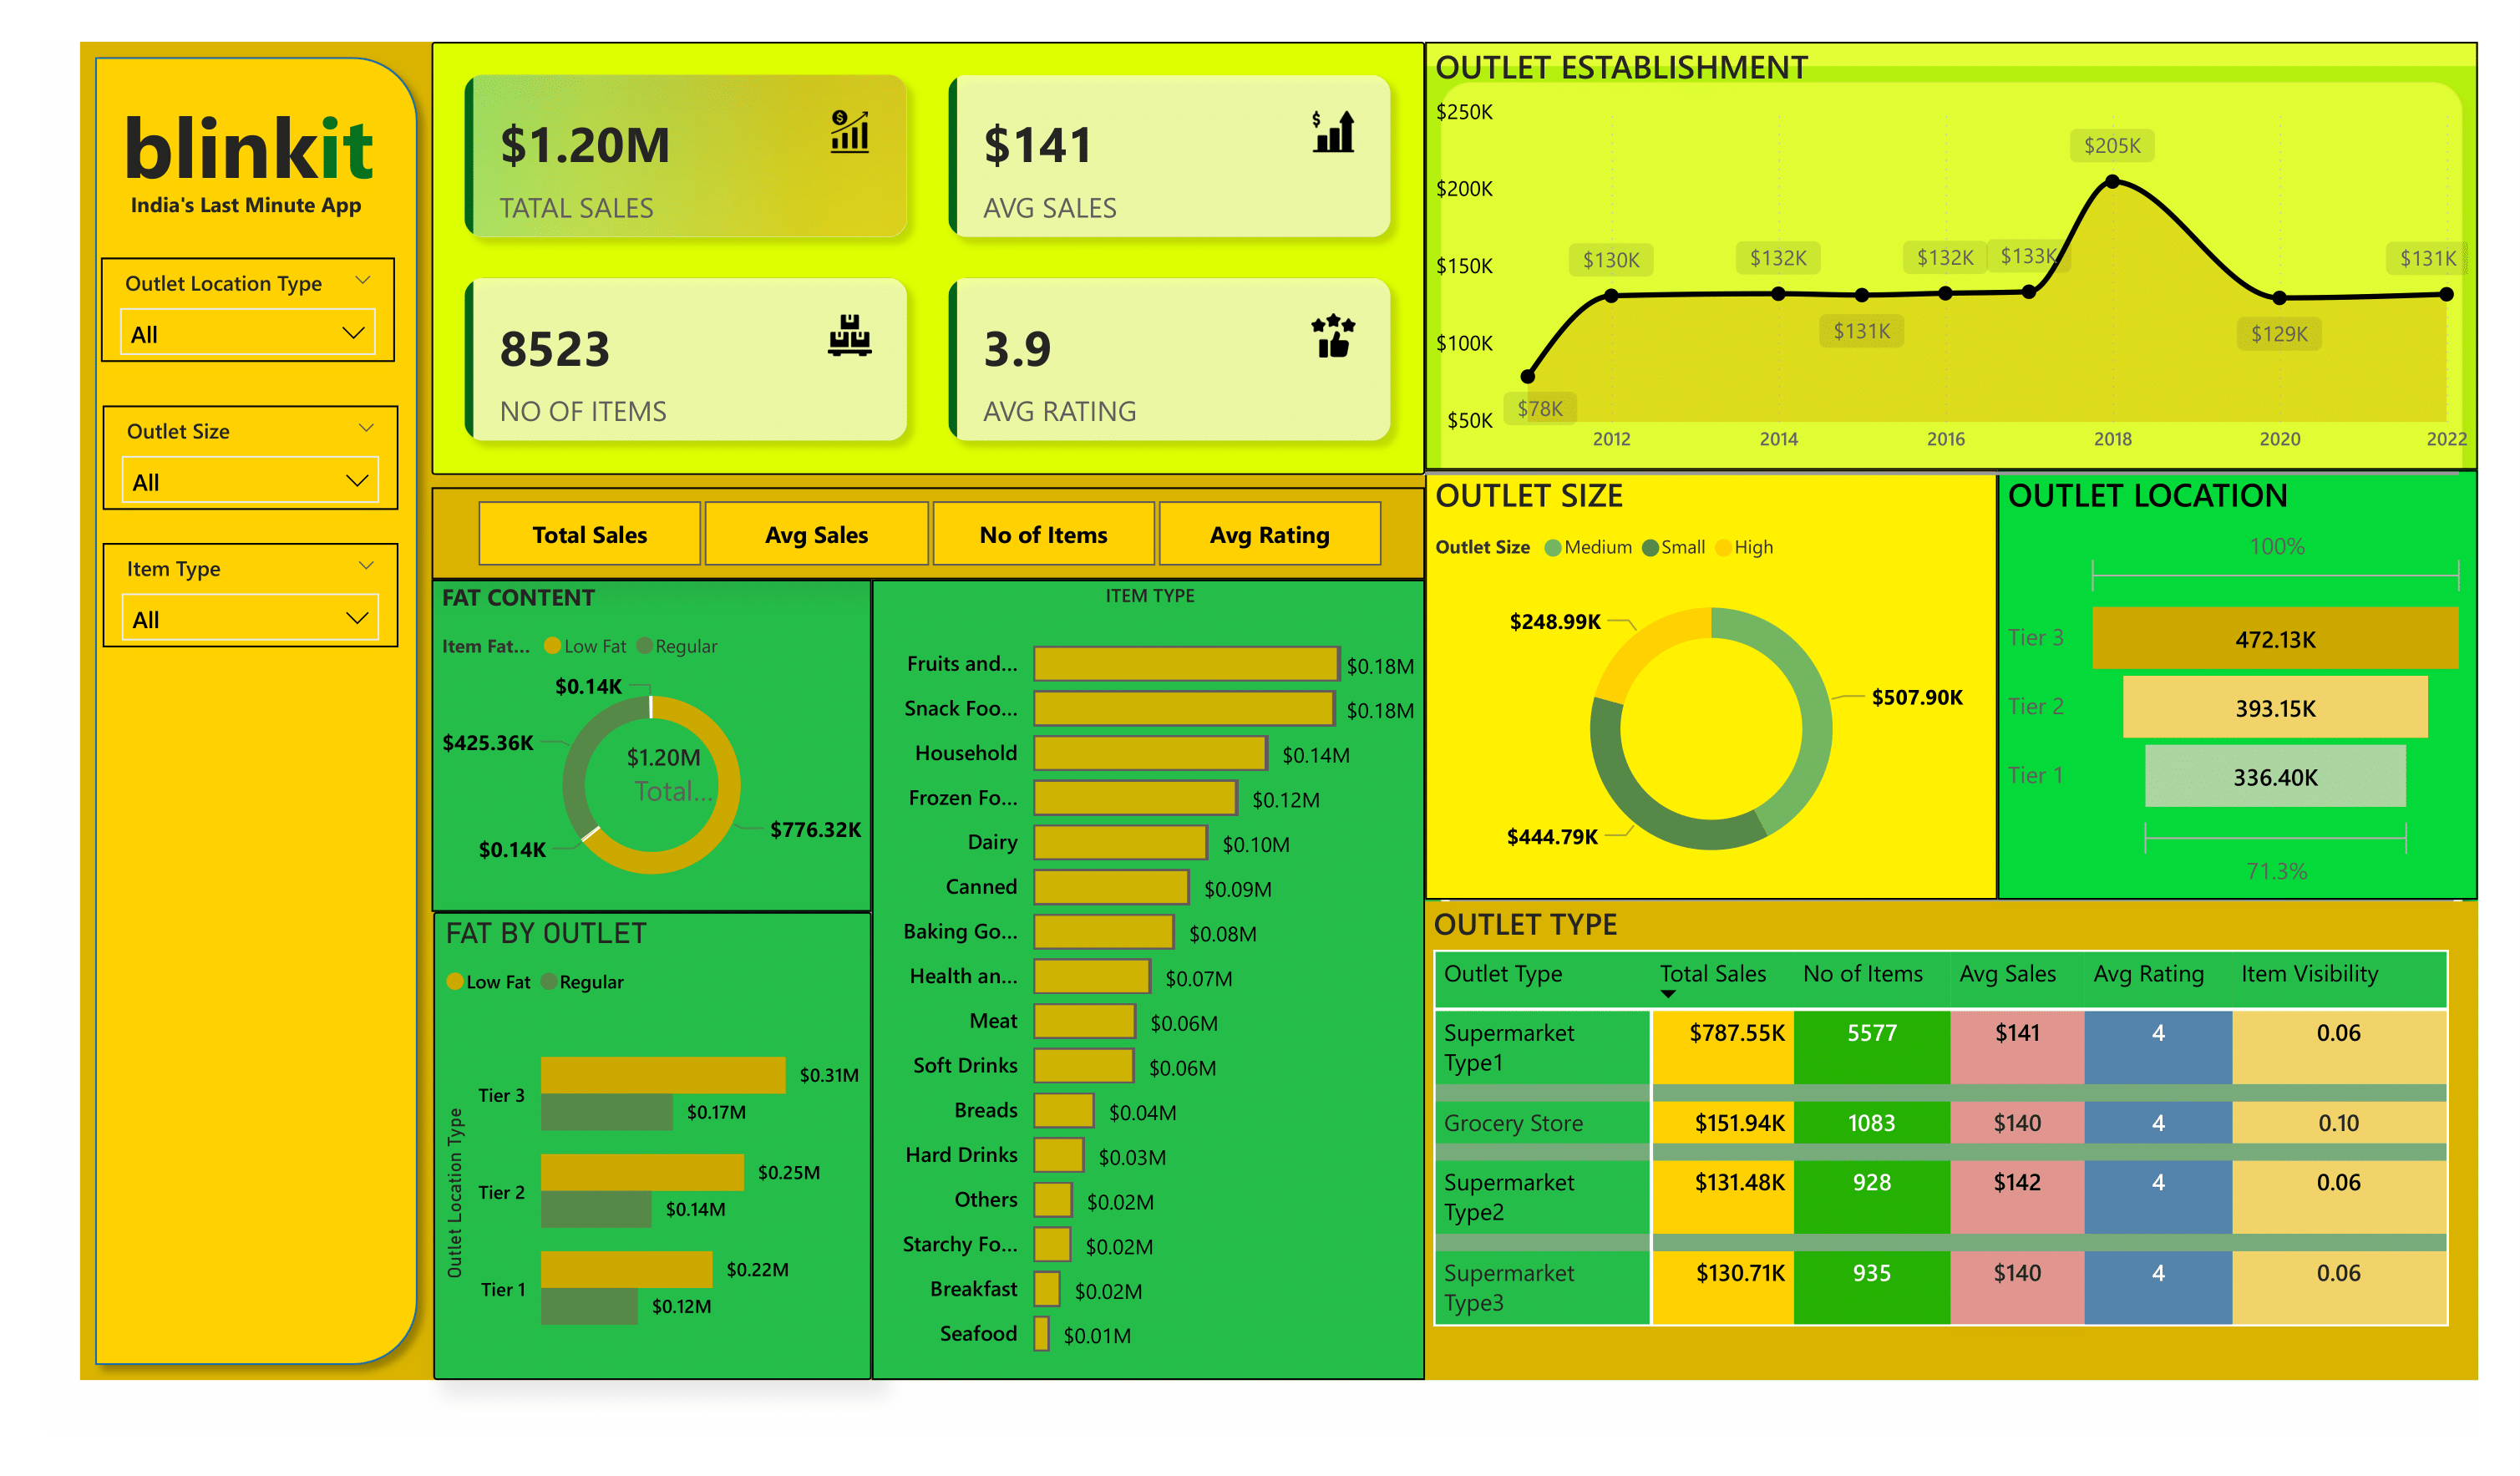

This screenshot's page, from the dashboard's own definition file:
{"tool":"powerbi","page":{"name":"Page 1","canvas":[1400,800],"ordinal":0},"visuals":[{"type":"shape","box":[21.5,0,203.1,769.2],"z":0},{"type":"textbox","box":[271.5,0,205,769],"z":1000},{"type":"textbox","box":[33.6,21.2,169.7,74.2],"z":2000},{"type":"textbox","box":[45.6,78.9,157.9,45.6],"z":3000},{"type":"cardVisual","fields":{"Data":["BlinkIT Grocery Data.Total Sales","BlinkIT Grocery Data.Avg Sales","BlinkIT Grocery Data.No of Items","BlinkIT Grocery Data.Avg Rating"]},"box":[224.5,0,570.9,249.2],"z":4000},{"type":"shape","box":[224.5,249.2,570.9,519.6],"z":5000},{"type":"donutChart","title":"FAT CONTENT","fields":{"Y":["BlinkIT Grocery Data.Total Sales","BlinkIT Grocery Data.Avg Sales","BlinkIT Grocery Data.No of Items","BlinkIT Grocery Data.Avg Rating"],"Category":["BlinkIT Grocery Data.Item Fat Content"]},"box":[224.5,309.3,252.7,190.9],"z":6000},{"type":"slicer","fields":{"Values":["Metrics.Metrics"]},"box":[224.5,256.3,570.9,53],"z":7000},{"type":"cardVisual","fields":{"Data":["BlinkIT Grocery Data.Total Sales"]},"box":[309.3,383.5,97.2,70.7],"z":8000},{"type":"clusteredBarChart","title":"FAT BY OUTLET","fields":{"Y":["BlinkIT Grocery Data.Total Sales"],"Category":["BlinkIT Grocery Data.Outlet Location Type"],"Series":["BlinkIT Grocery Data.Item Fat Content"]},"box":[224.6,500,252.3,269.2],"z":9000},{"type":"shape","box":[471.9,309.3,12.4,459.5],"z":10000},{"type":"barChart","title":"ITEM TYPE","fields":{"Y":["BlinkIT Grocery Data.Total Sales","BlinkIT Grocery Data.Avg Sales","BlinkIT Grocery Data.No of Items","BlinkIT Grocery Data.Avg Rating"],"Category":["BlinkIT Grocery Data.Item Type"]},"box":[476.9,309.2,318.5,460],"z":11000},{"type":"shape","box":[795.3,14.1,604.4,754.7],"z":12000},{"type":"lineChart","title":"OUTLET ESTABLISHMENT","fields":{"Category":["BlinkIT Grocery Data.Outlet Establishment Year"],"Y":["BlinkIT Grocery Data.Total Sales"]},"box":[795.4,0,604.6,246.2],"z":13000},{"type":"shape","box":[809.4,486,576.2,14.1],"z":14000},{"type":"donutChart","title":"OUTLET SIZE","fields":{"Y":["BlinkIT Grocery Data.Total Sales"],"Category":["BlinkIT Grocery Data.Outlet Size"]},"box":[795.3,245.7,328.7,247.4],"z":15000},{"type":"funnel","title":"OUTLET LOCATION","fields":{"Y":["Sum(BlinkIT Grocery Data.Sales)"],"Category":["BlinkIT Grocery Data.Outlet Location Type"]},"box":[1124,245.7,275.7,247.4],"z":16000},{"type":"shape","box":[795.3,240.4,593.8,15.9],"z":17000},{"type":"pivotTable","title":"OUTLET TYPE","fields":{"Values":["BlinkIT Grocery Data.Total Sales","BlinkIT Grocery Data.No of Items","BlinkIT Grocery Data.Avg Sales","BlinkIT Grocery Data.Avg Rating","Avg(BlinkIT Grocery Data.Item Visibility)"],"Rows":["BlinkIT Grocery Data.Outlet Type"]},"box":[795.4,493.8,604.6,275.4],"z":18000},{"type":"slicer","fields":{"Values":["BlinkIT Grocery Data.Outlet Location Type"]},"box":[33.6,123.7,169.7,60.1],"z":19000},{"type":"slicer","fields":{"Values":["BlinkIT Grocery Data.Outlet Size"]},"box":[35.3,208.5,169.7,60.1],"z":20000},{"type":"slicer","fields":{"Values":["BlinkIT Grocery Data.Item Type"]},"box":[35.3,288.1,169.7,60.1],"z":21000}]}

Visuals, with their boxes in screenshot pixels (x1, y1, x2, y2):
shape: <box>79,42,433,1381</box>
textbox: <box>515,42,871,1380</box>
textbox: <box>100,79,396,208</box>
textbox: <box>121,179,396,258</box>
cardVisual - BlinkIT Grocery Data.Total Sales x BlinkIT Grocery Data.Avg Sales: <box>433,42,1426,475</box>
shape: <box>433,475,1426,1380</box>
"FAT CONTENT" donutChart: <box>433,581,872,912</box>
slicer - Metrics.Metrics: <box>433,488,1426,581</box>
cardVisual - BlinkIT Grocery Data.Total Sales: <box>580,709,749,832</box>
"FAT BY OUTLET" clusteredBarChart: <box>433,912,872,1381</box>
shape: <box>863,581,885,1380</box>
"ITEM TYPE" barChart: <box>872,580,1426,1381</box>
shape: <box>1426,66,2477,1380</box>
"OUTLET ESTABLISHMENT" lineChart: <box>1426,42,2478,470</box>
shape: <box>1450,888,2453,912</box>
"OUTLET SIZE" donutChart: <box>1426,469,1998,900</box>
"OUTLET LOCATION" funnel: <box>1998,469,2477,900</box>
shape: <box>1426,460,2459,488</box>
"OUTLET TYPE" pivotTable: <box>1426,901,2478,1381</box>
slicer - BlinkIT Grocery Data.Outlet Location Type: <box>100,257,396,362</box>
slicer - BlinkIT Grocery Data.Outlet Size: <box>104,404,398,510</box>
slicer - BlinkIT Grocery Data.Item Type: <box>104,543,398,648</box>
